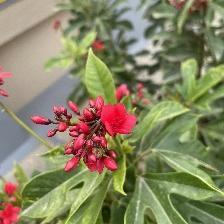jatropha: (100, 101, 137, 140)
